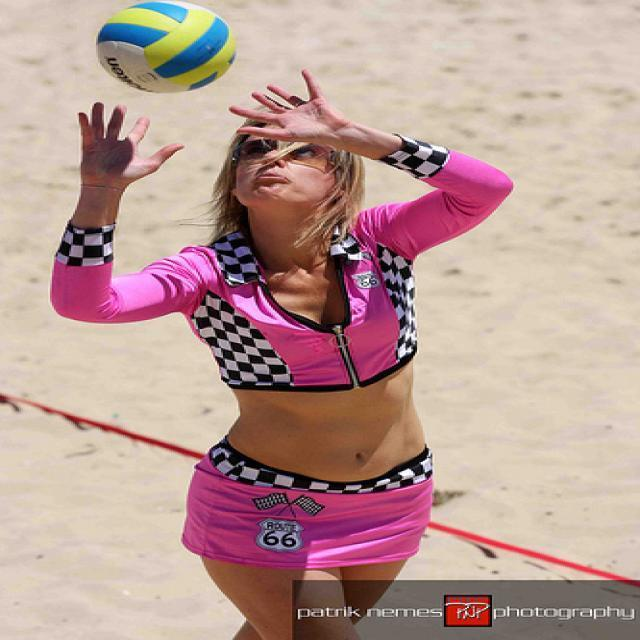volleyball: (95, 2, 236, 92)
